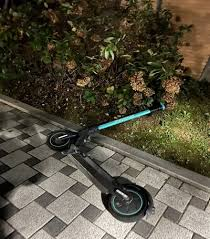fallin_kick: (45, 98, 166, 218)
